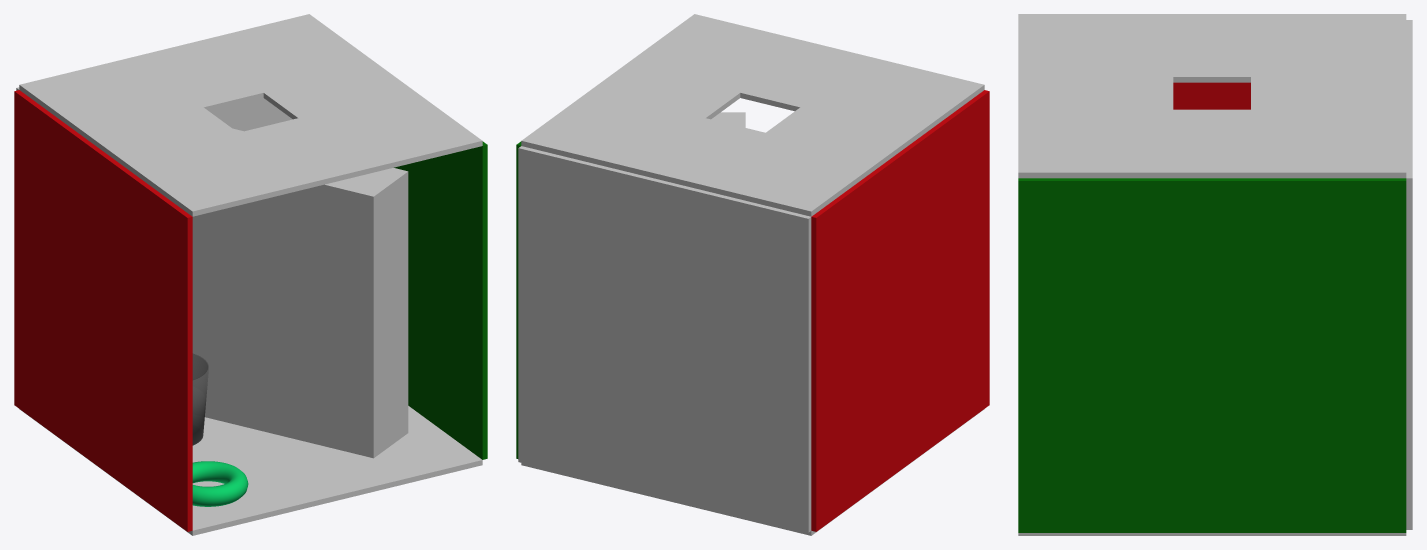
File: cornell_scene.obj
The picture shows the model from 3 angles, left to right: view 1: azimuth 30°, elevation 25°; view 2: azimuth 150°, elevation 25°; view 3: azimuth 270°, elevation 25°; orthographic projection. The views are drawn at different scales.
Parts seen in each view (by area): view 1: Left_Wall_Cube.003, Pie_Cube, Right_Wall_Cube.004, Ceiling1_Cube.005, Ceiling2_Cube.006, Floor_Cube.001, Ceiling3_Cube.007, Ceiling4_Cube.008, Torus_Torus, Back_Wall_Cube.002, Cup_Cone.001; view 2: Back_Wall_Cube.002, Left_Wall_Cube.003, Ceiling1_Cube.005, Ceiling2_Cube.006, Ceiling4_Cube.008, Ceiling3_Cube.007, Floor_Cube.001, Right_Wall_Cube.004; view 3: Right_Wall_Cube.004, Ceiling2_Cube.006, Ceiling1_Cube.005, Ceiling3_Cube.007, Ceiling4_Cube.008, Back_Wall_Cube.002, Left_Wall_Cube.003, Floor_Cube.001.
Boxes of the visible parts, x1,y1,x2,y2 form: Left_Wall_Cube.003: [14, 90, 192, 531]; Pie_Cube: [192, 128, 408, 458]; Right_Wall_Cube.004: [394, 141, 487, 459]; Ceiling1_Cube.005: [19, 56, 307, 216]; Ceiling2_Cube.006: [195, 14, 482, 173]; Floor_Cube.001: [19, 406, 482, 535]; Ceiling3_Cube.007: [238, 118, 367, 188]; Ceiling4_Cube.008: [135, 42, 263, 111]; Torus_Torus: [192, 461, 248, 506]; Back_Wall_Cube.002: [16, 87, 292, 131]; Cup_Cone.001: [192, 353, 208, 445]; Back_Wall_Cube.002: [518, 146, 811, 532]; Left_Wall_Cube.003: [811, 90, 989, 531]; Ceiling1_Cube.005: [696, 56, 984, 216]; Ceiling2_Cube.006: [521, 14, 808, 173]; Ceiling4_Cube.008: [636, 118, 765, 188]; Ceiling3_Cube.007: [740, 42, 868, 111]; Floor_Cube.001: [521, 409, 984, 535]; Right_Wall_Cube.004: [516, 141, 521, 458]; Right_Wall_Cube.004: [1018, 178, 1406, 532]; Ceiling2_Cube.006: [1018, 109, 1406, 178]; Ceiling1_Cube.005: [1018, 14, 1406, 82]; Ceiling3_Cube.007: [1018, 77, 1173, 109]; Ceiling4_Cube.008: [1251, 77, 1406, 109]; Back_Wall_Cube.002: [1406, 20, 1412, 529]; Left_Wall_Cube.003: [1173, 82, 1250, 109]; Floor_Cube.001: [1018, 533, 1406, 535].
Size of the model in its own units: 3 by 3.1 by 3.05.
